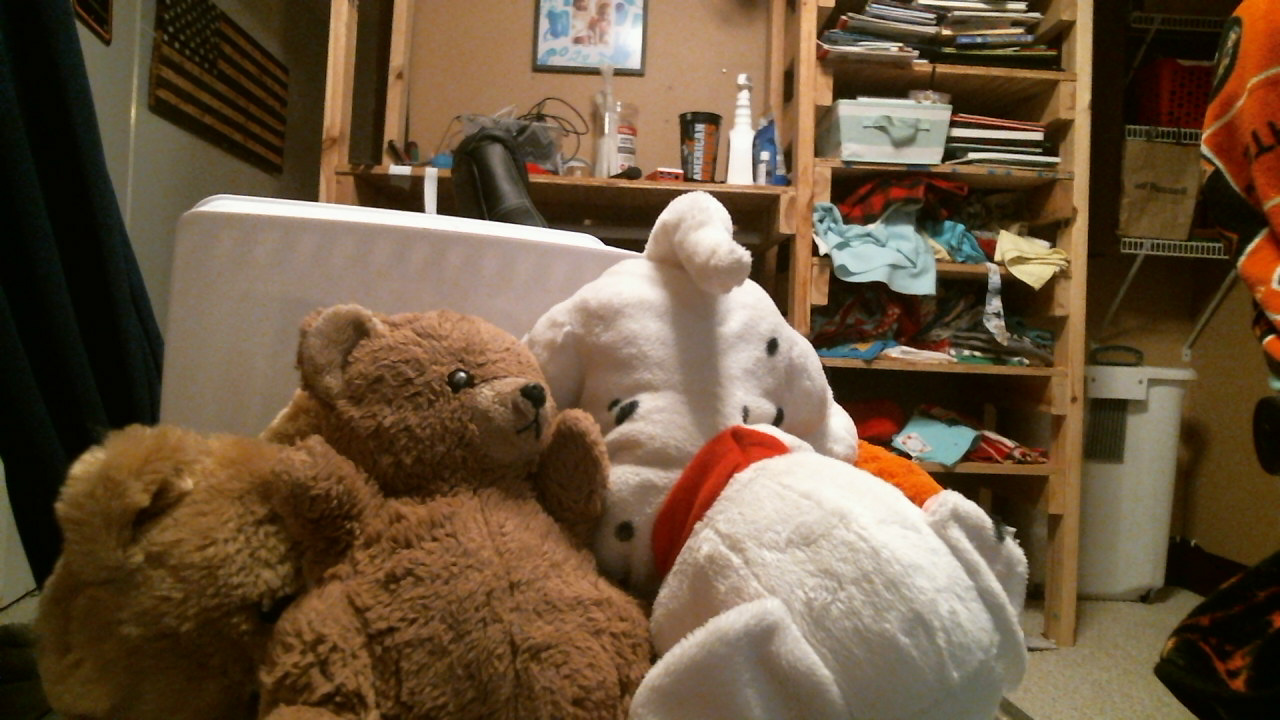Little_Mister_Bear: (436, 360, 555, 467)
